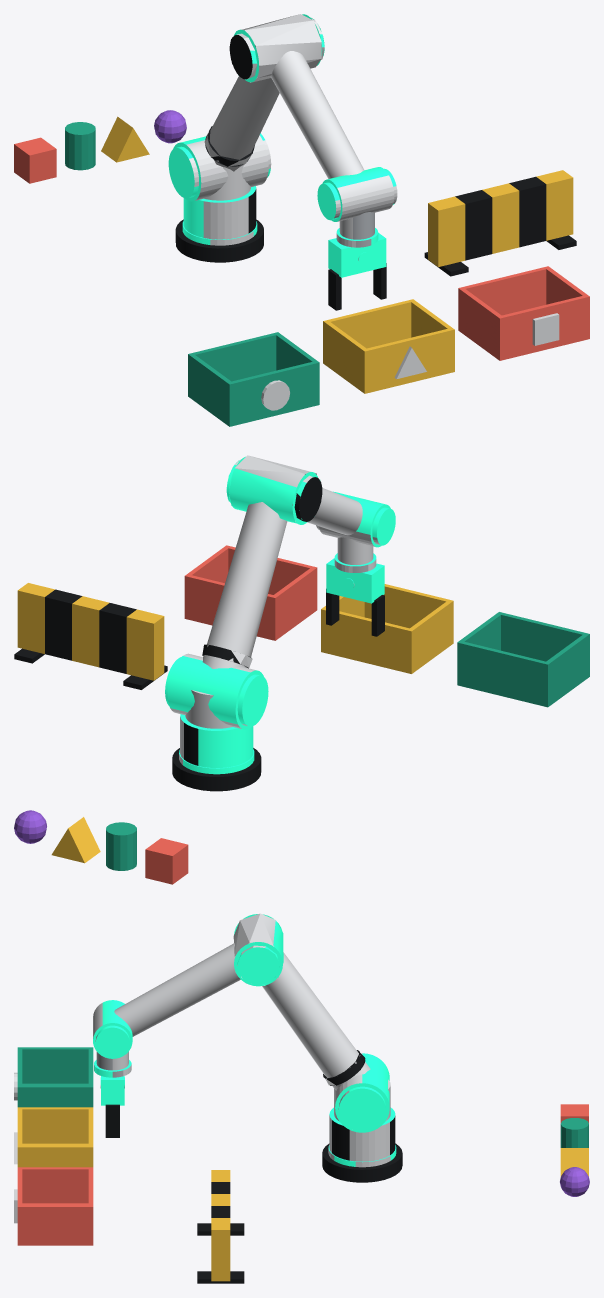
File: robot.glb
3 renders of one model, top to bottom at view 1: azimuth 30°, elevation 25°; view 2: azimuth 150°, elevation 25°; view 3: azimuth 270°, elevation 25°, orthographic. The views are drawn at different scales.
Parts seen in each view (by area): view 1: barrier, bin_b, bin_a, bin_c, arm_shoulder, arm_elbow, arm_root, arm_turret, arm_wrist, part_cube, part_cylinder, part_prism (+1 smaller); view 2: arm_shoulder, barrier, bin_a, bin_b, bin_c, arm_turret, arm_root, arm_elbow, arm_wrist, part_cube, part_cylinder, part_prism (+1 smaller); view 3: arm_shoulder, bin_c, arm_elbow, bin_b, bin_a, arm_root, arm_turret, barrier, arm_wrist, part_cylinder, part_sphere, part_prism (+1 smaller).
Part boxes in pixels (left/top/right/bottom): barrier: left=424, top=170, right=576, bottom=276; bin_b: left=323, top=299, right=454, bottom=393; bin_a: left=188, top=332, right=319, bottom=426; bin_c: left=458, top=266, right=589, bottom=360; arm_shoulder: left=204, top=14, right=324, bottom=171; arm_elbow: left=270, top=51, right=397, bottom=221; arm_root: left=175, top=186, right=263, bottom=262; arm_turret: left=168, top=133, right=271, bottom=201; arm_wrist: left=328, top=212, right=386, bottom=277; part_cube: left=14, top=137, right=56, bottom=183; part_cylinder: left=65, top=122, right=95, bottom=170; part_prism: left=101, top=116, right=149, bottom=162; arm_shoulder: left=202, top=455, right=322, bottom=668; barrier: left=14, top=583, right=167, bottom=689; bin_a: left=457, top=612, right=589, bottom=707; bin_b: left=321, top=584, right=453, bottom=673; bin_c: left=184, top=545, right=317, bottom=640; arm_turret: left=165, top=653, right=268, bottom=729; arm_root: left=172, top=714, right=261, bottom=791; arm_elbow: left=292, top=488, right=395, bottom=547; arm_wrist: left=326, top=537, right=384, bottom=603; part_cube: left=145, top=838, right=188, bottom=884; part_cylinder: left=106, top=822, right=136, bottom=870; part_prism: left=51, top=817, right=100, bottom=863; arm_shoulder: left=233, top=913, right=370, bottom=1090; bin_c: left=14, top=1167, right=93, bottom=1245; arm_elbow: left=93, top=942, right=251, bottom=1058; bin_b: left=14, top=1107, right=93, bottom=1167; bin_a: left=14, top=1047, right=93, bottom=1107; arm_root: left=322, top=1107, right=402, bottom=1182; arm_turret: left=334, top=1053, right=390, bottom=1132; barrier: left=197, top=1170, right=244, bottom=1283; arm_wrist: left=94, top=1051, right=131, bottom=1105; part_cylinder: left=560, top=1118, right=588, bottom=1147; part_sphere: left=560, top=1167, right=589, bottom=1196; part_prism: left=560, top=1148, right=588, bottom=1176.
Size of the model in its own units: 1 by 0.557 by 1.22.
